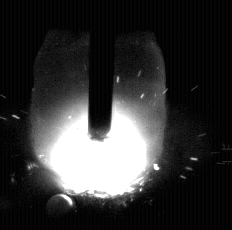arame: (88, 0, 114, 141)
poca: (32, 0, 165, 230)
